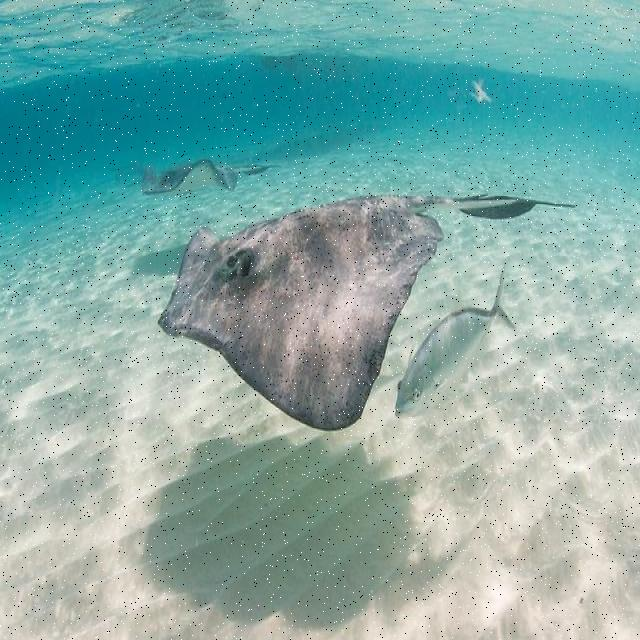fish: (158, 195, 577, 430), (395, 255, 520, 419), (145, 160, 279, 195)
